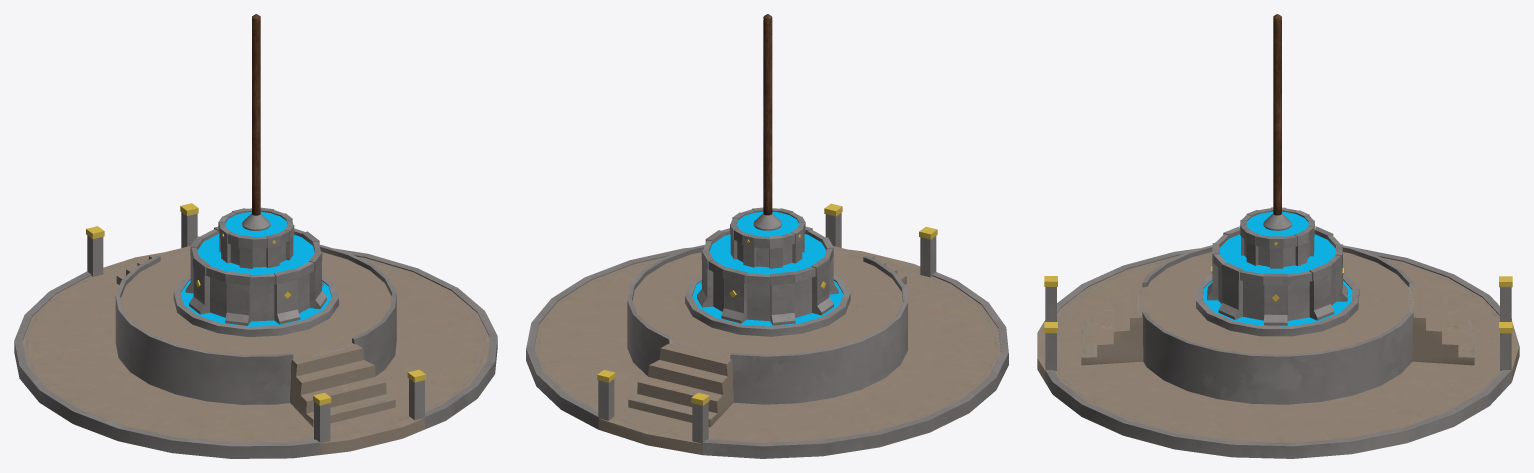
File: jorna.glb
The picture shows the model from 3 angles, left to right: view 1: azimuth 30°, elevation 25°; view 2: azimuth 150°, elevation 25°; view 3: azimuth 270°, elevation 25°; orthographic projection.
Visible parts, largest first — view 1: Cylinder.015, Cylinder, Cube.006, Cylinder.001, Cylinder.006, Cylinder.002, Cylinder.005, pani.001, Cylinder.003, Cylinder.004, pani, pani.002 (+4 smaller); view 2: Cylinder.015, Cylinder, Cube.005, Cylinder.001, Cylinder.005, Cylinder.006, Cylinder.002, pani.001, Cylinder.003, Cylinder.004, pani, pani.002 (+4 smaller); view 3: Cylinder.015, Cylinder, Cylinder.001, Cube.005, Cube.006, Cylinder.006, Cylinder.002, Cylinder.005, pani.001, Cylinder.003, Cylinder.004, pani (+5 smaller).
Part boxes in pixels (bbox=[...]): Cylinder.015: bbox=[14, 248, 497, 458]; Cylinder: bbox=[115, 244, 396, 404]; Cube.006: bbox=[290, 344, 395, 427]; Cylinder.001: bbox=[185, 256, 326, 325]; Cylinder.006: bbox=[173, 274, 338, 336]; Cylinder.002: bbox=[190, 226, 322, 285]; Cylinder.005: bbox=[242, 14, 270, 230]; pani.001: bbox=[197, 234, 314, 274]; Cylinder.003: bbox=[219, 233, 293, 268]; Cylinder.004: bbox=[218, 207, 294, 248]; pani: bbox=[181, 280, 331, 326]; pani.002: bbox=[225, 212, 287, 236]; Cylinder.015: bbox=[526, 247, 1008, 458]; Cylinder: bbox=[627, 244, 907, 404]; Cube.005: bbox=[628, 343, 733, 427]; Cylinder.001: bbox=[697, 256, 838, 325]; Cylinder.005: bbox=[753, 14, 781, 230]; Cylinder.006: bbox=[685, 274, 850, 336]; Cylinder.002: bbox=[701, 226, 833, 285]; pani.001: bbox=[709, 234, 826, 274]; Cylinder.003: bbox=[730, 234, 804, 268]; Cylinder.004: bbox=[730, 207, 805, 248]; pani: bbox=[692, 281, 843, 326]; pani.002: bbox=[736, 212, 798, 236]; Cylinder.015: bbox=[1037, 247, 1519, 458]; Cylinder: bbox=[1138, 245, 1413, 404]; Cylinder.001: bbox=[1207, 255, 1347, 325]; Cube.005: bbox=[1409, 286, 1474, 365]; Cube.006: bbox=[1081, 286, 1143, 365]; Cylinder.006: bbox=[1196, 273, 1359, 336]; Cylinder.002: bbox=[1212, 226, 1342, 285]; Cylinder.005: bbox=[1263, 14, 1291, 230]; pani.001: bbox=[1219, 234, 1335, 274]; Cylinder.003: bbox=[1241, 236, 1314, 268]; Cylinder.004: bbox=[1240, 207, 1314, 248]; pani: bbox=[1203, 280, 1352, 326].
Bounding box in the file's own units: 24.05 × 18.82 × 24.
Materials: 2 (2 with a texture image).
